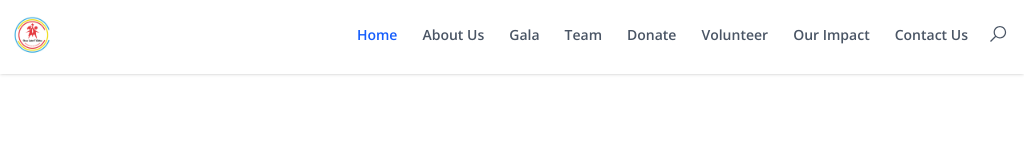
Scenario: Header component › should have close search button when search is open
Click the button named "Search" at (998, 34), box [980,16,1016,52]
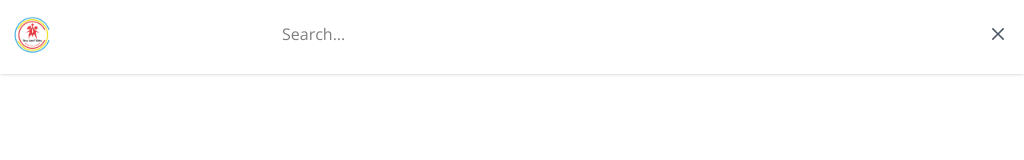
Expected: the button named "Close search" is shown, [980,16,1016,52]
